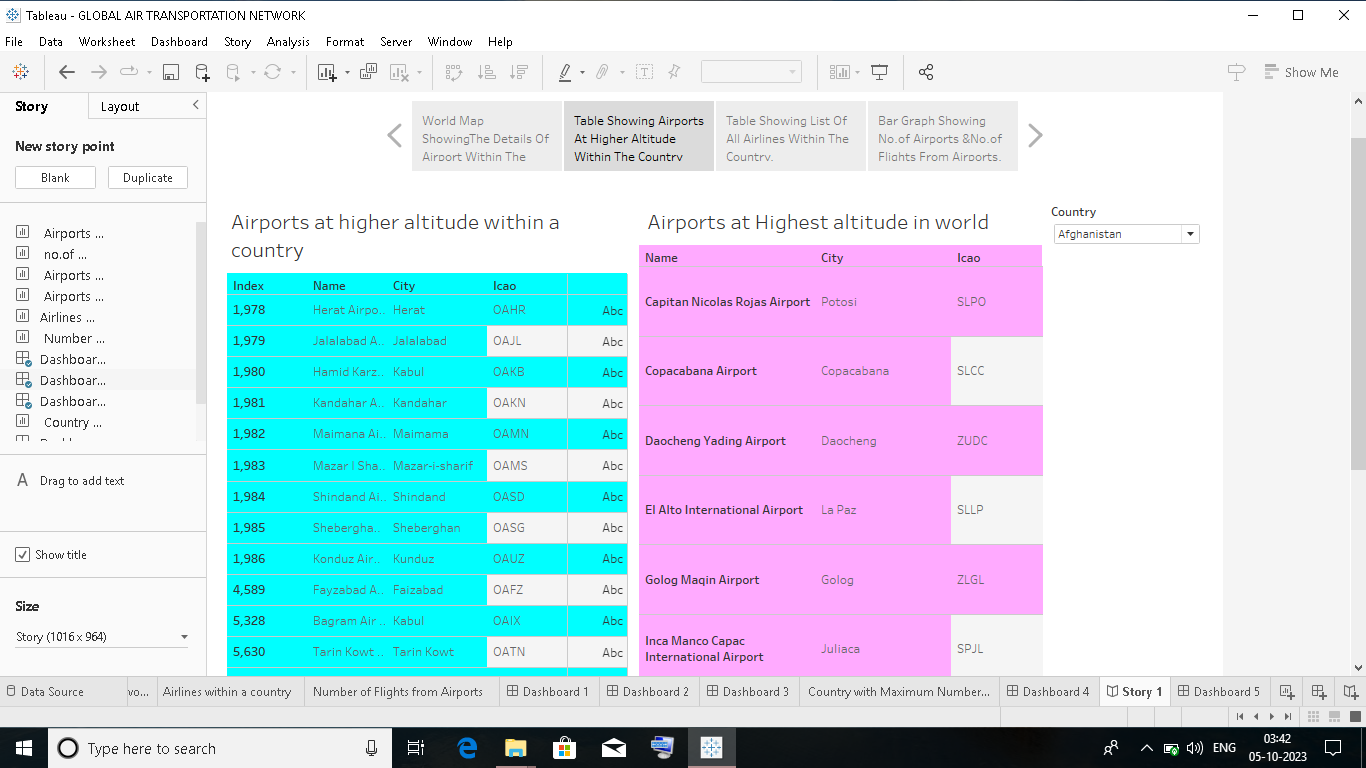

This screenshot's page, from the dashboard's own definition file:
{"tool":"tableau","page":{"name":"Dashboard 2","canvas":[1000,800],"ordinal":1},"visuals":[{"type":"worksheet","title":" Airports at higher altitude within a country","mark":"Automatic","rows":["index","Name","City","ICAO"],"box":[8,8,412,784]},{"type":"worksheet","title":" Airports at Highest altitude in world","mark":"Automatic","rows":["Name","City","ICAO"],"box":[420,8,412,784]},{"type":"filter","title":" Airports at higher altitude within a country","param":"[federated.1a1zrgq1lutcvu1c68p7n0bjfrti].[none:Country:nk]","box":[832,8,160,52]}]}

Visuals, with their boxes on the page's 1000x800 design canvas (x1, y1, x2, y2). These are canvas units, not pixel positions in the 1366x768 screenshot, which may show the page scaled, cropped or inside an application window:
" Airports at higher altitude within a country" worksheet: 8/8/420/792
" Airports at Highest altitude in world" worksheet: 420/8/832/792
" Airports at higher altitude within a country" filter: 832/8/992/60
